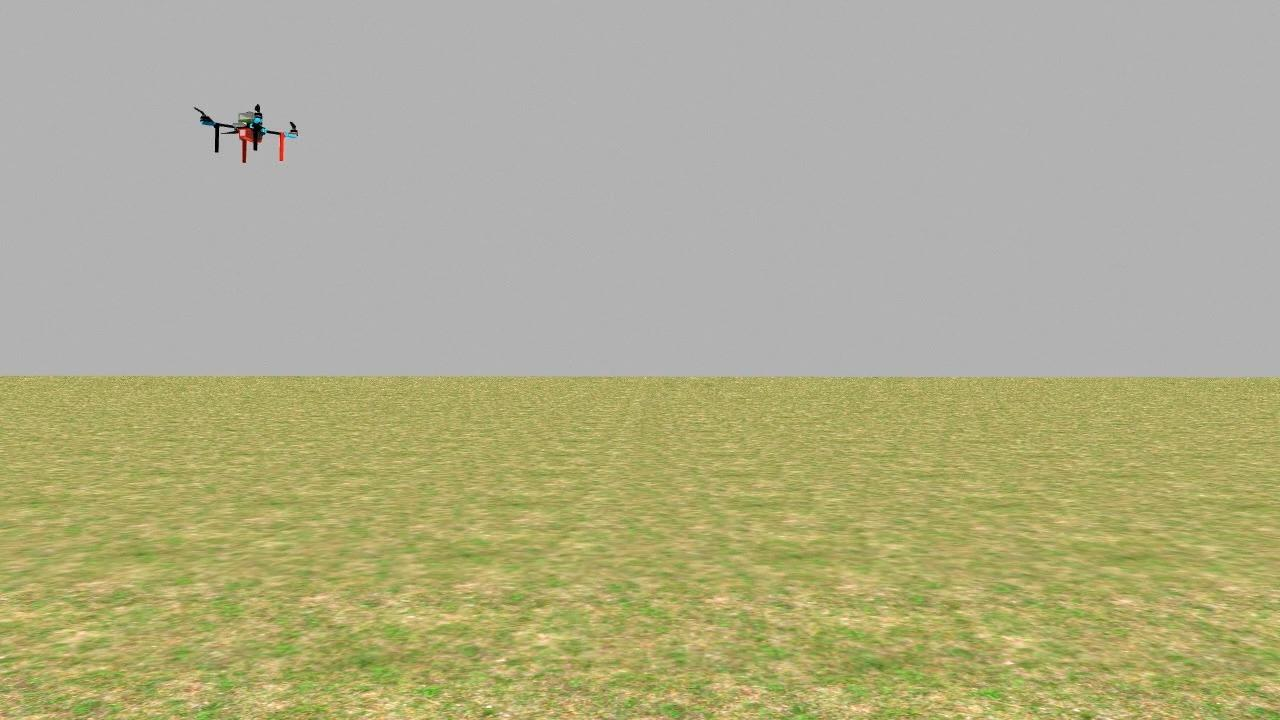UAV: (184, 86, 314, 184)
